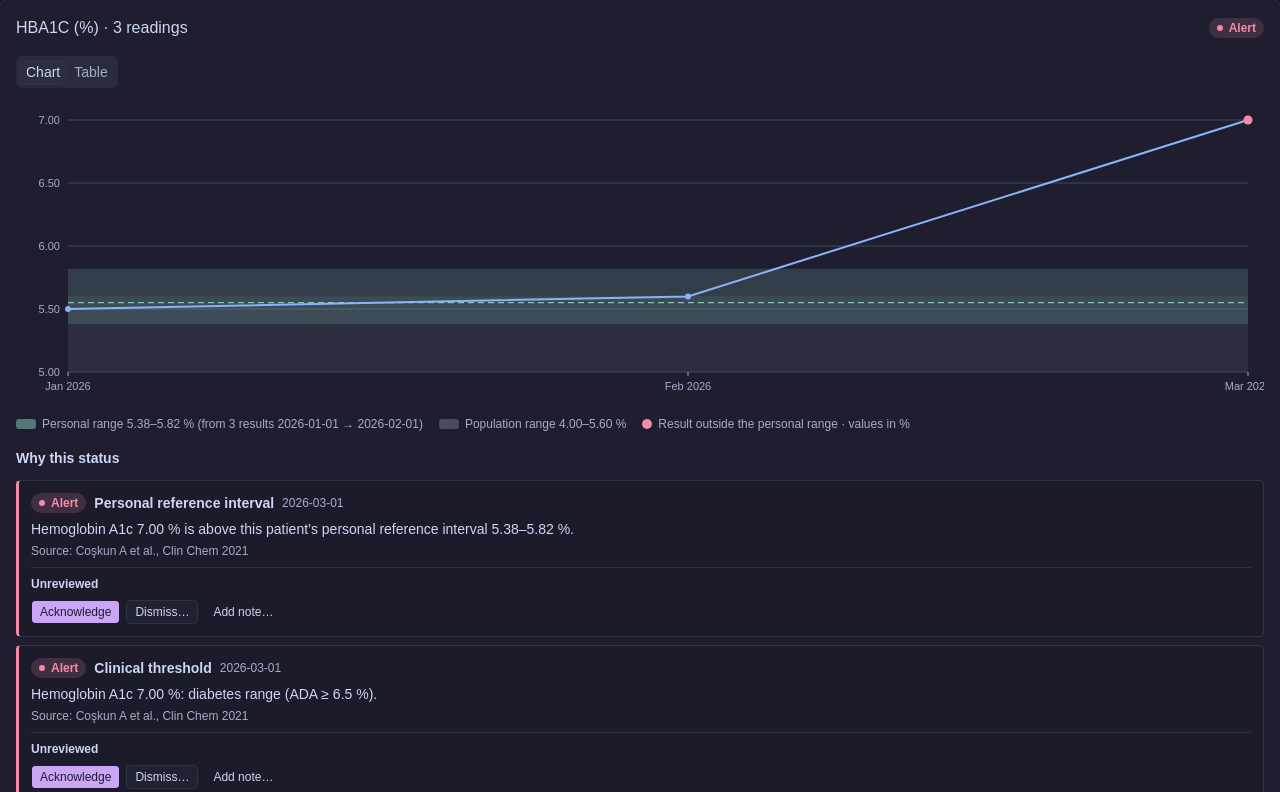
Test case: TrendPanel › switches between the chart and its table alternative
The width and height of the screenshot is (1280, 792).
Check: the heading "HBA1C (%) · 3 readings" is shown, box x1=16 y1=16 x2=188 y2=40
Click the tab "Table": (91, 72) x1=67 y1=60 x2=115 y2=84
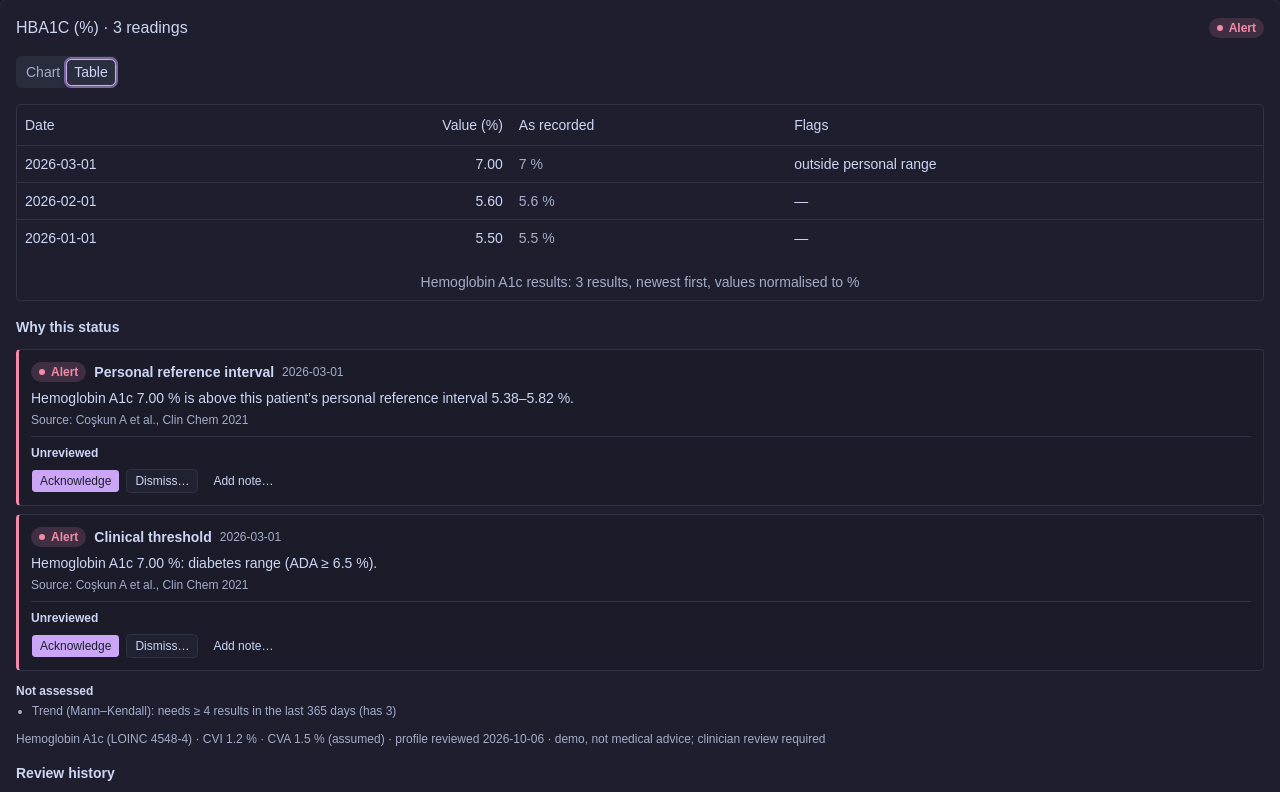
Check: the table shows "Hemoglobin A1c results: 3 results, newest first, values normalised to %", box x1=17 y1=105 x2=1263 y2=300
Check: the row "2026-03-01 7.00 7 % outside personal range" is shown, box x1=17 y1=145 x2=1263 y2=182
